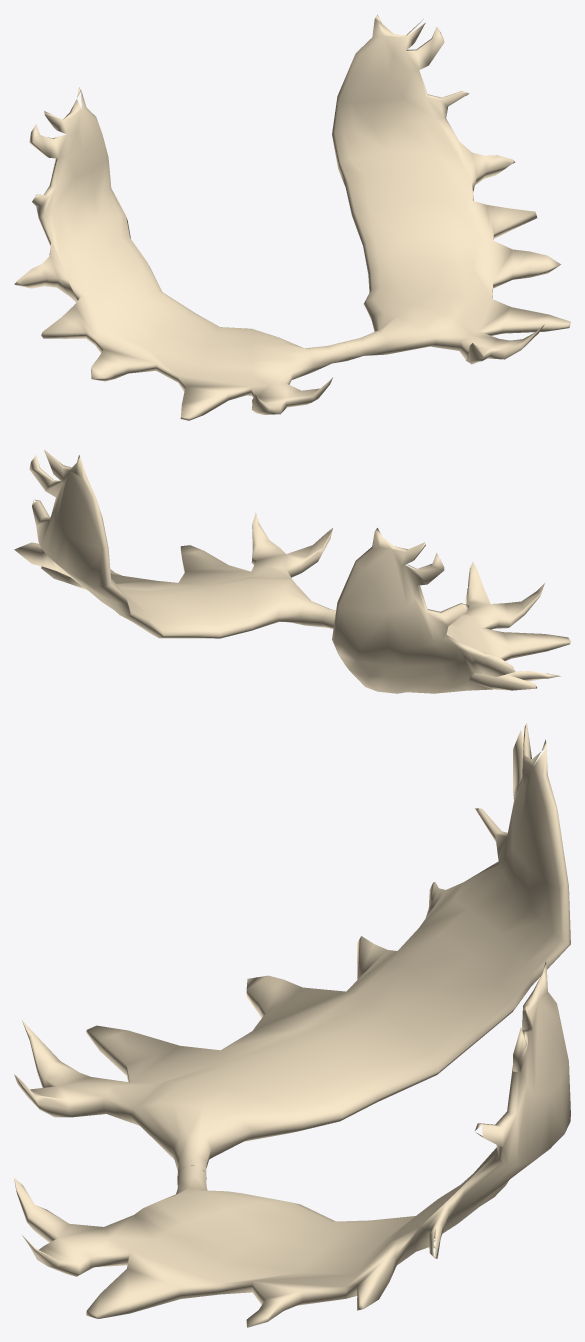
The picture shows the model from 3 angles, top to bottom: view 1: azimuth 30°, elevation 25°; view 2: azimuth 150°, elevation 25°; view 3: azimuth 270°, elevation 25°; orthographic projection. The views are drawn at different scales.
Parts seen in each view (by area): view 1: Symmetry.1; view 2: Symmetry.1; view 3: Symmetry.1.
Part boxes in pixels (x1,y1,x2,y2): Symmetry.1: [14, 14, 570, 420]; Symmetry.1: [14, 449, 570, 693]; Symmetry.1: [14, 723, 570, 1327].
Bounding box in the file's own units: 889 × 387 × 562.
